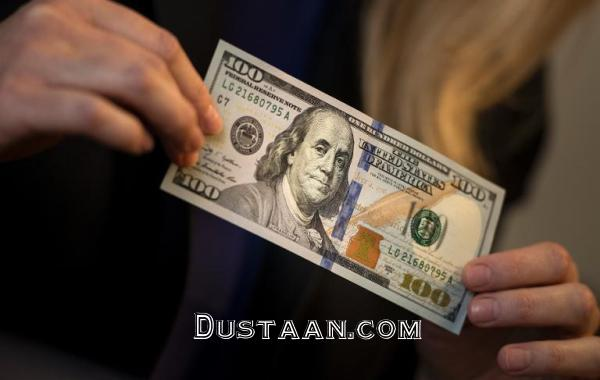billete: (160, 38, 510, 338)
